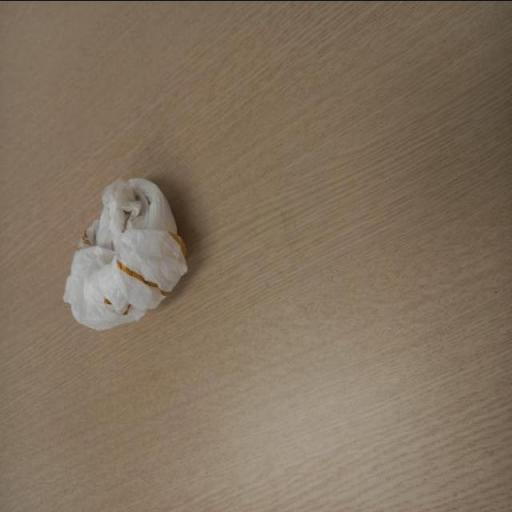plastic-bag: (61, 174, 190, 327)
